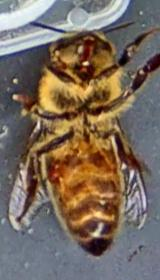varroa_mite: (32, 148, 69, 190)
